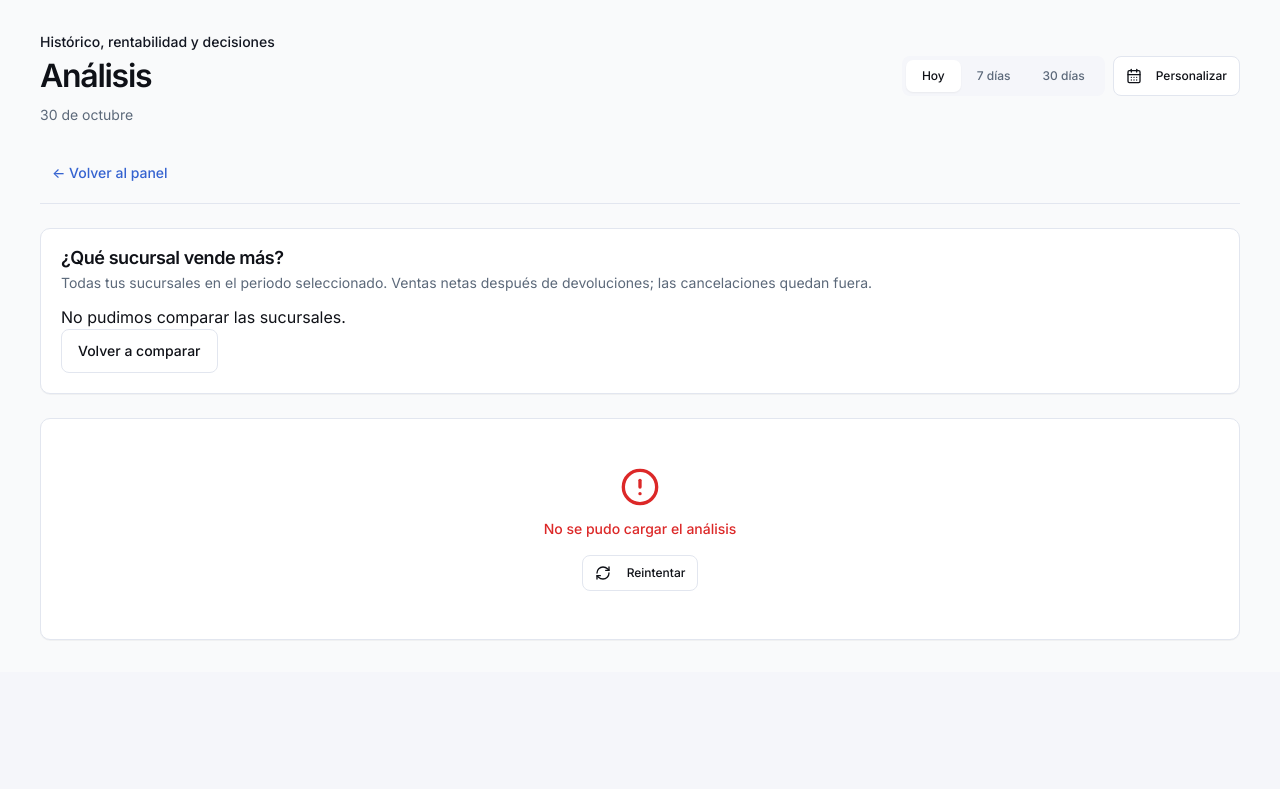
Test: ReportsView › shows the error state with a working retry
The width and height of the screenshot is (1280, 789).
Expected: the text "No se pudo cargar el análisis" is shown, [544, 519, 736, 539]
Click the button "Reintentar": (640,573) [582, 555, 698, 591]
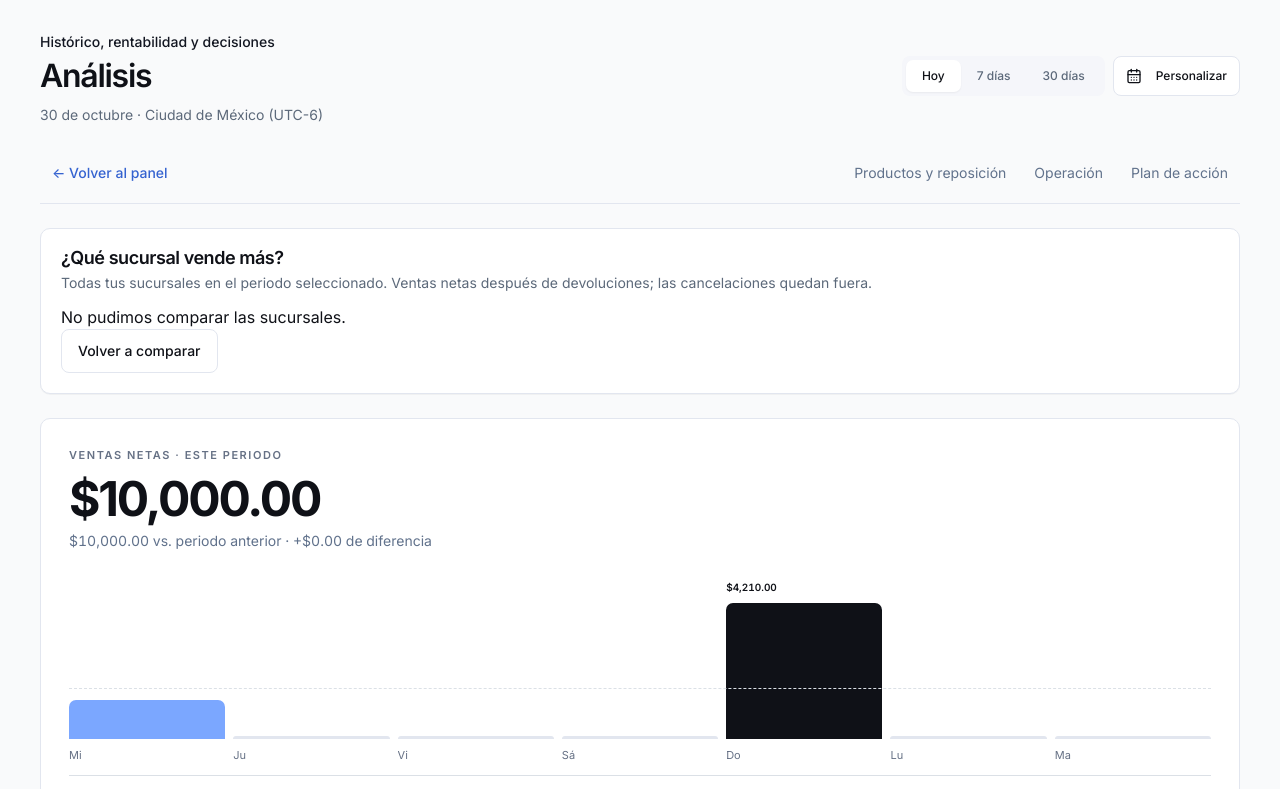
Expected: the text "Ventas netas" is shown, [69, 448, 171, 462]
